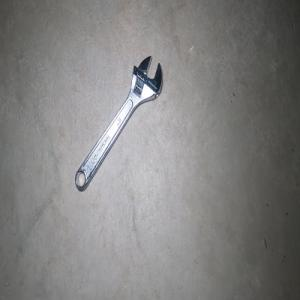Wrench: (74, 55, 162, 191)
